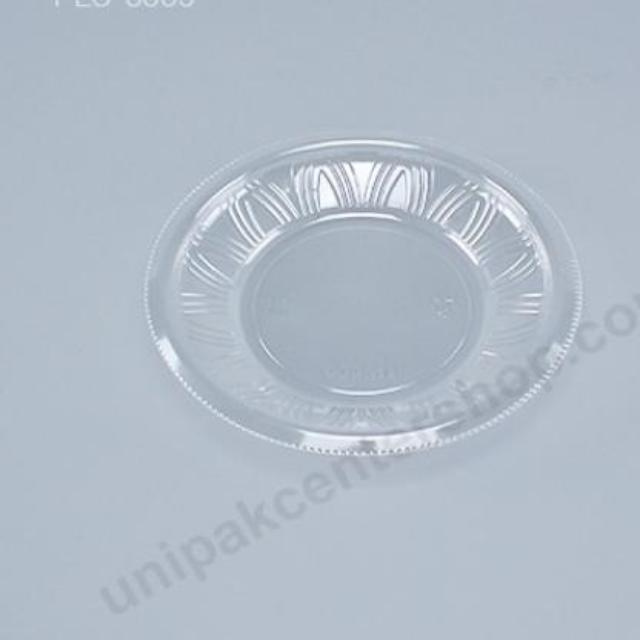plastic_box: (144, 132, 580, 460)
